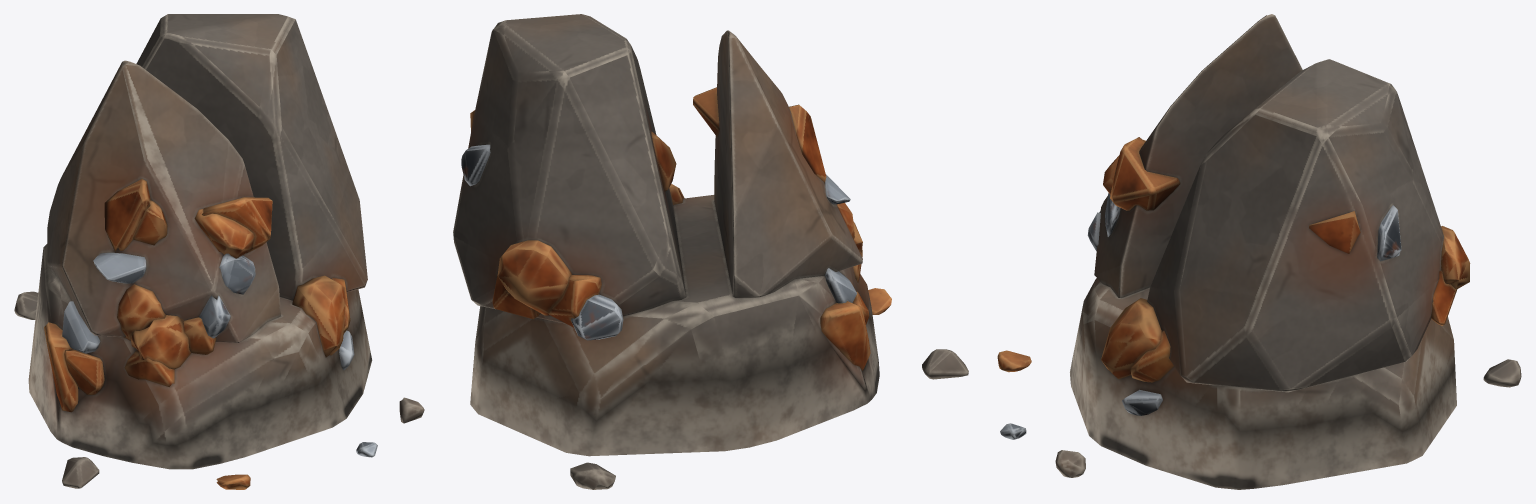
The model's file is iron_ore.fbx.
3 views of the same model, side by side, from view 1: azimuth 30°, elevation 25°; view 2: azimuth 150°, elevation 25°; view 3: azimuth 270°, elevation 25° (orthographic). The views are drawn at different scales.
Parts seen in each view (by area): view 1: IronOre_Body; view 2: IronOre_Body; view 3: IronOre_Body.
Part boxes in pixels (x1=…): IronOre_Body: x1=14, y1=14, x2=424, y2=489; IronOre_Body: x1=453, y1=14, x2=968, y2=489; IronOre_Body: x1=997, y1=14, x2=1521, y2=489.
Size of the model in its own units: 4.14 by 3.62 by 4.81.
Materials: 1 (1 with a texture image).
